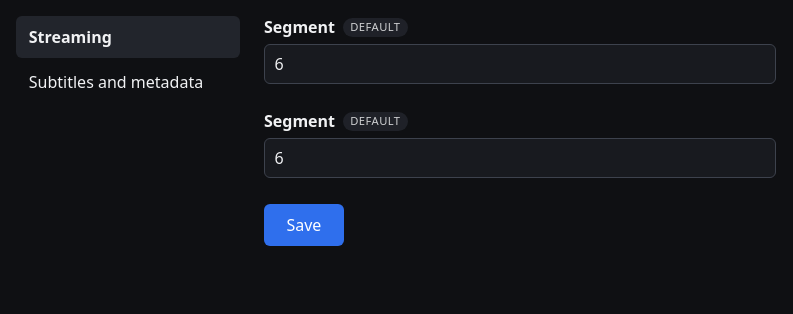
Scenario: SettingsPage › shows server errors beside fields and keeps typed values
The image size is (793, 314).
Replace the text in the number field with id "field-HLS_SEGMENT_DURATION" with "0". click: (520, 64)
box: [264,44,776,84]
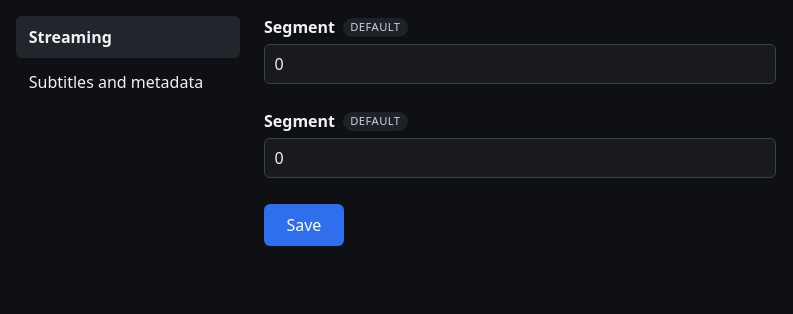
Submit the form, box [264,16,776,246]
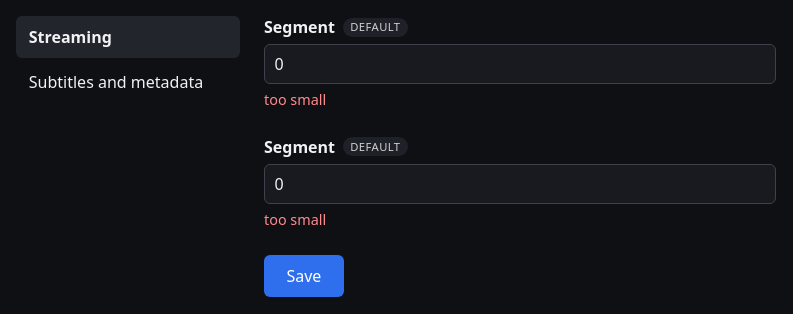
Now the text "too small" is shown, box [264,90,326,109]
